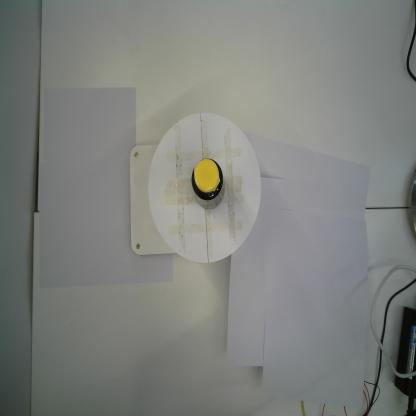Seasoner: (191, 156, 226, 212)
